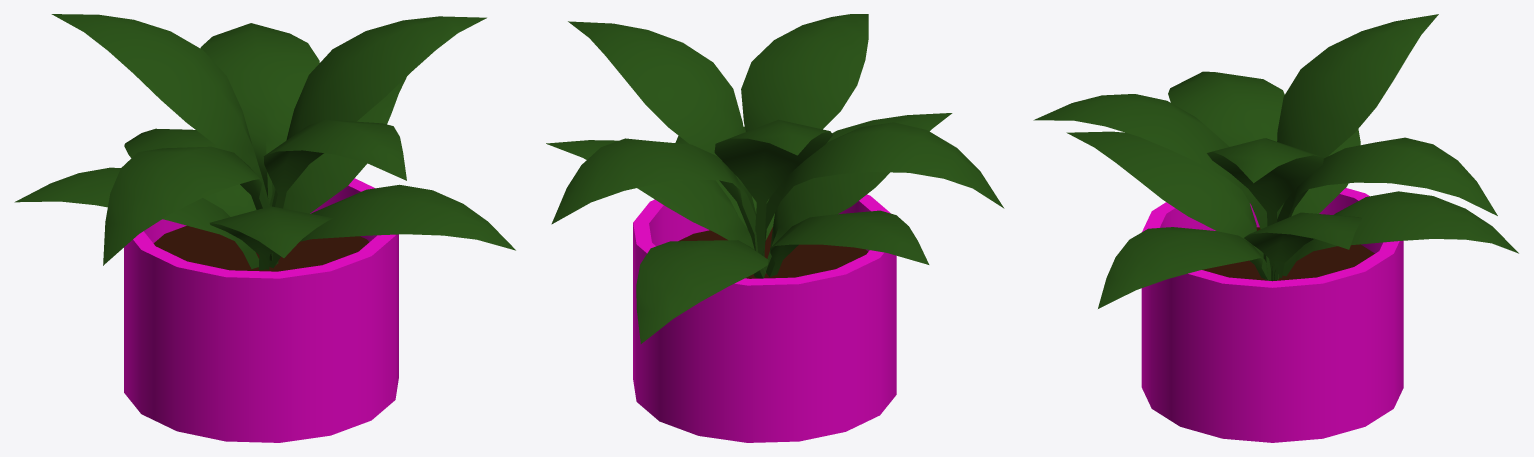
The model's file is Plant_02.fbx.
3 views of the same model, side by side, from view 1: azimuth 30°, elevation 25°; view 2: azimuth 150°, elevation 25°; view 3: azimuth 270°, elevation 25° (orthographic). The views are drawn at different scales.
Visible parts, largest first — view 1: Plant01; view 2: Plant01; view 3: Plant01.
Boxes of the visible parts, x1,y1,x2,y2 form: Plant01: (14,14,515,442); Plant01: (546,14,1004,442); Plant01: (1033,14,1518,442).
Bounding box in the file's own units: 35.02 × 26.73 × 36.76.
